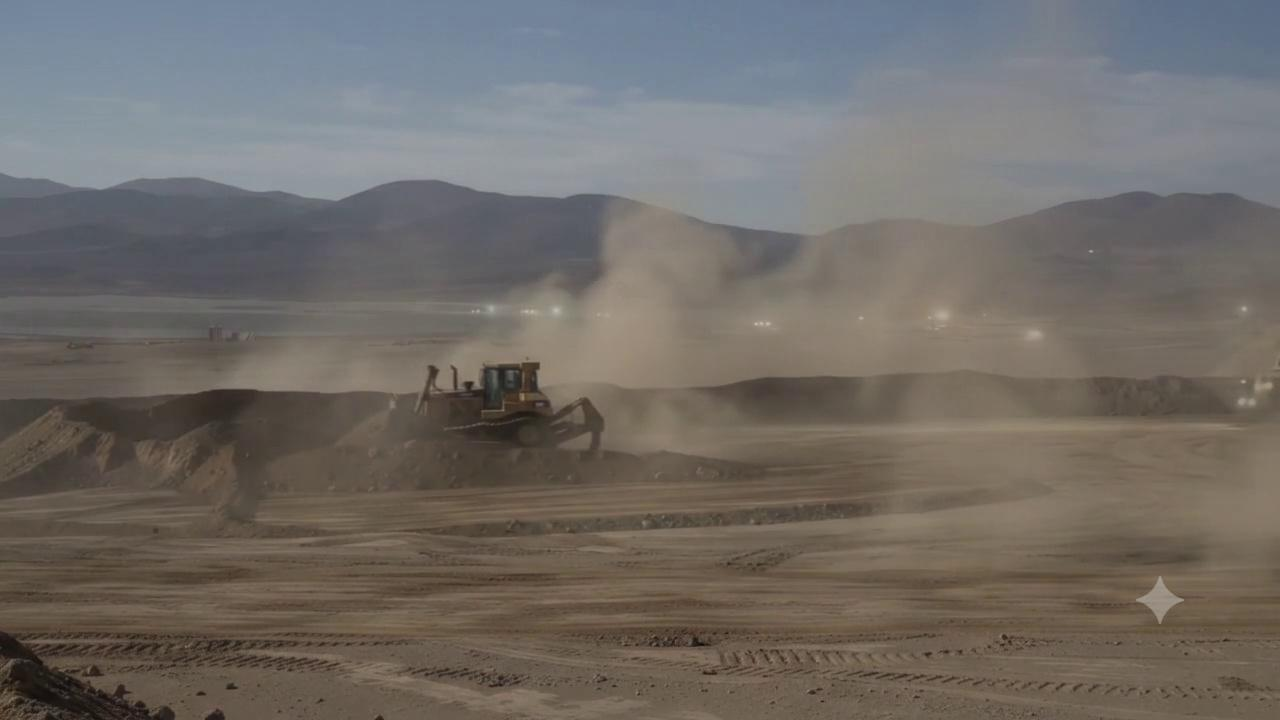CAEX: (382, 360, 605, 458)
